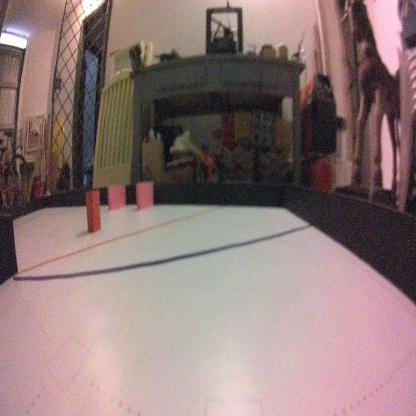magenta: (134, 180, 154, 210), (108, 178, 124, 213)
red: (82, 184, 100, 233)
